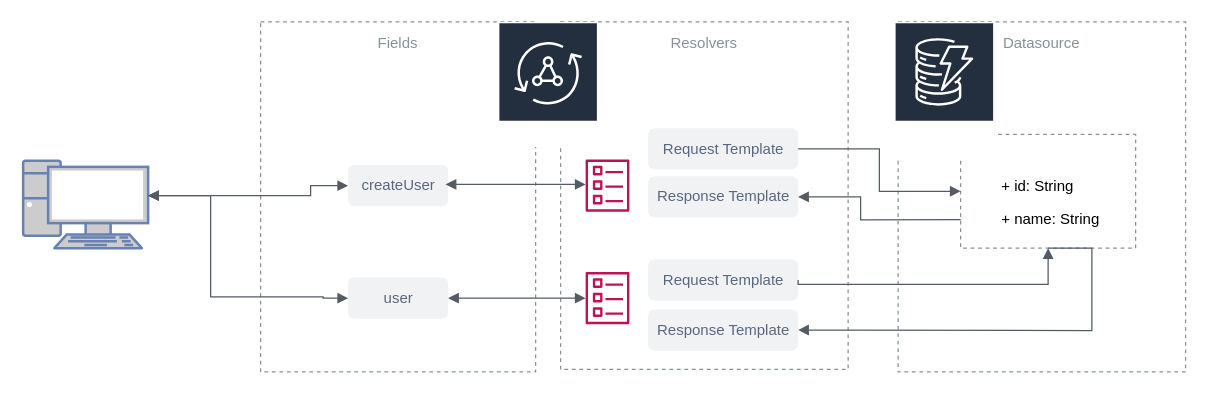
The diagram is 1208 pixels wide and 394 high, and some of its shapes have lost their labels. Each missing label, with the centre of its shape:
Amazon DynamoDB: (x=943, y=90)
AWS AppSync: (x=547, y=84)
